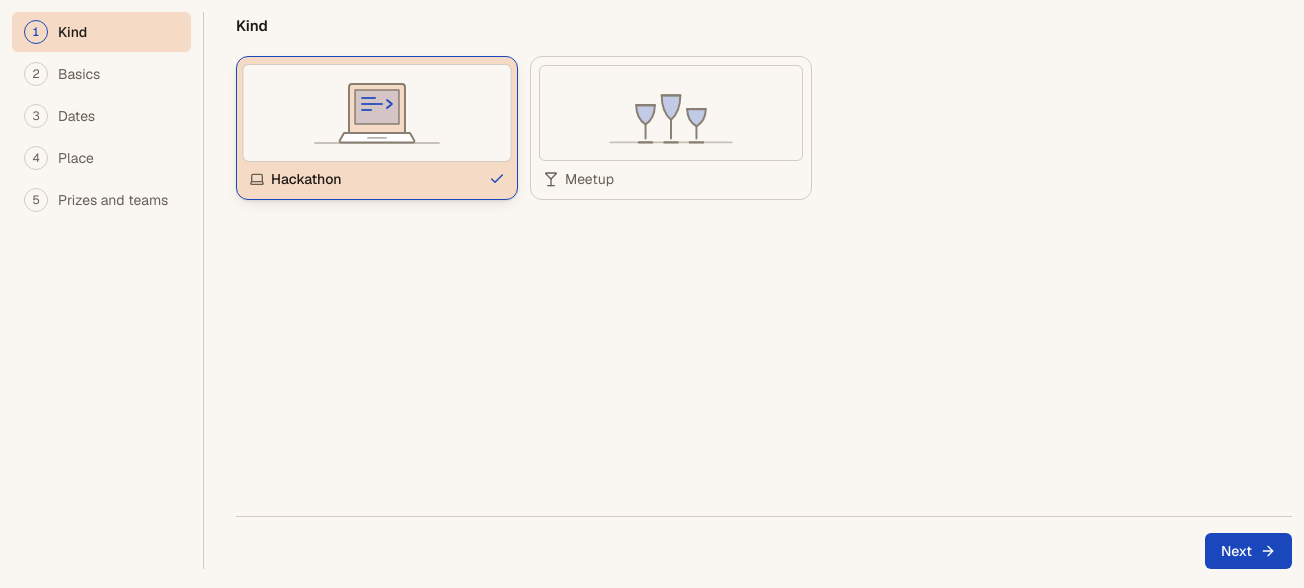
it: the place fields follow the format on both forms › leaves a clean seam for a cover control
Click the button "2 Basics": (102, 74) [12, 54, 191, 94]
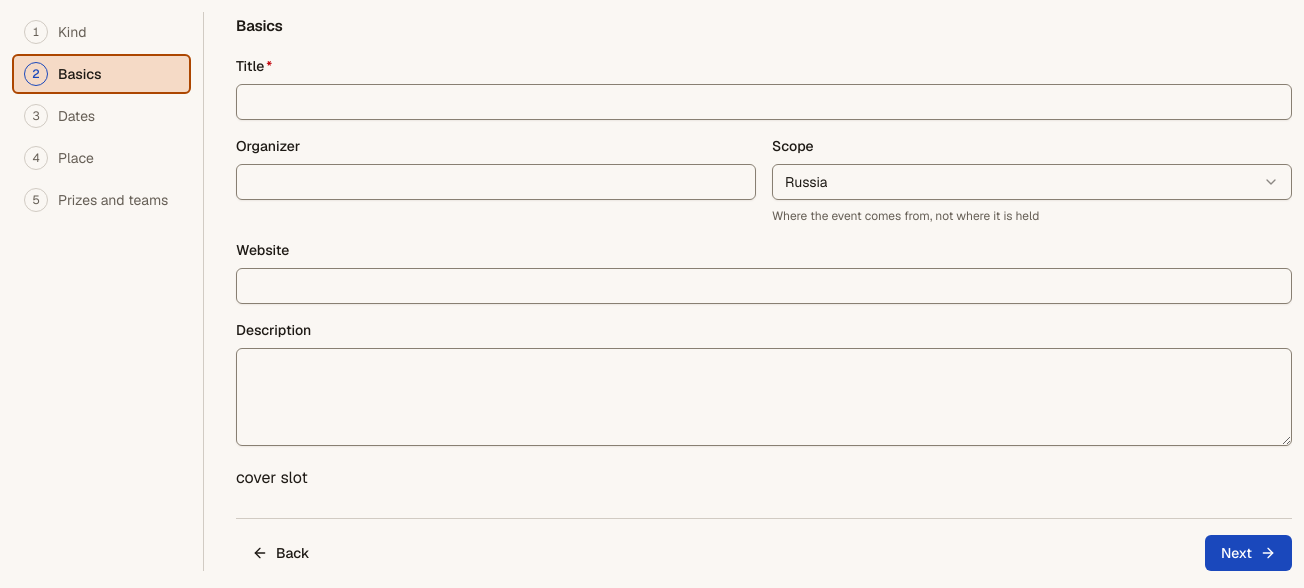
Check: the text "cover slot" is shown, box [236, 467, 308, 488]
